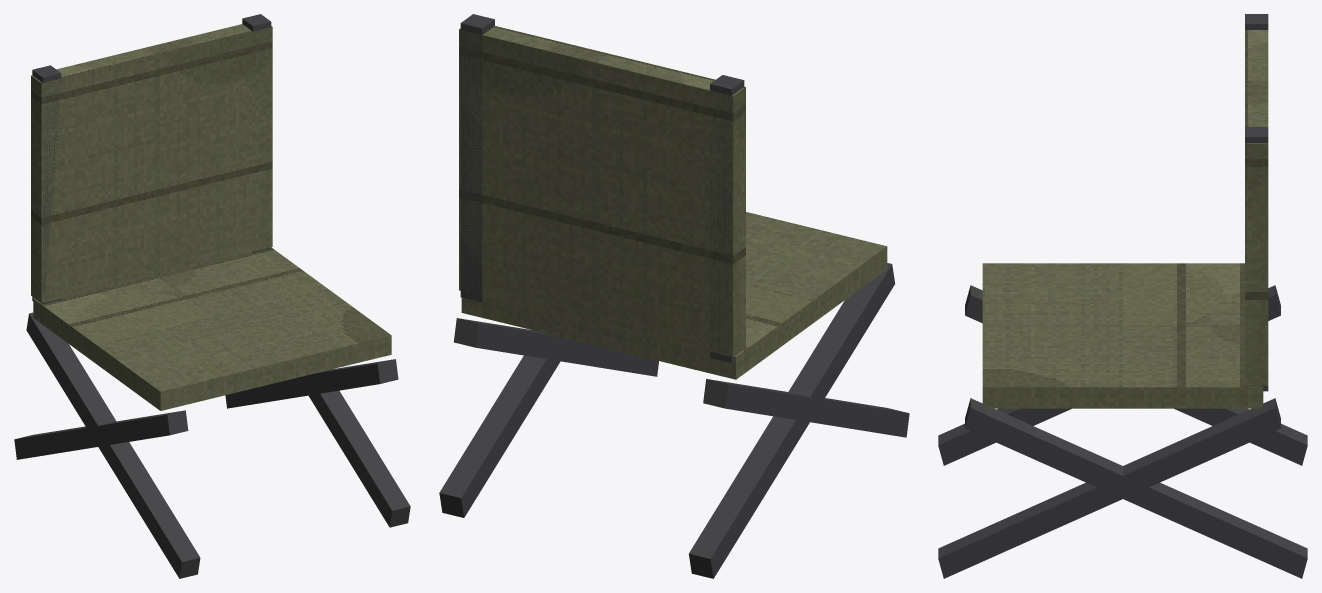
The model's file is fb_field_chair.glb.
3 views of the same model, side by side, from view 1: azimuth 30°, elevation 25°; view 2: azimuth 150°, elevation 25°; view 3: azimuth 270°, elevation 25° (orthographic). The views are drawn at different scales.
Parts seen in each view (by area): view 1: fb_field_chair; view 2: fb_field_chair; view 3: fb_field_chair.
Boxes of the visible parts, box(x1,y1,x2,y2) form: fb_field_chair: box(14, 14, 410, 578); fb_field_chair: box(439, 14, 909, 578); fb_field_chair: box(938, 14, 1307, 578).
Size of what is drawn, in the model's own units: 0.44 by 0.7299 by 0.553.
2 materials, 1 textured.
